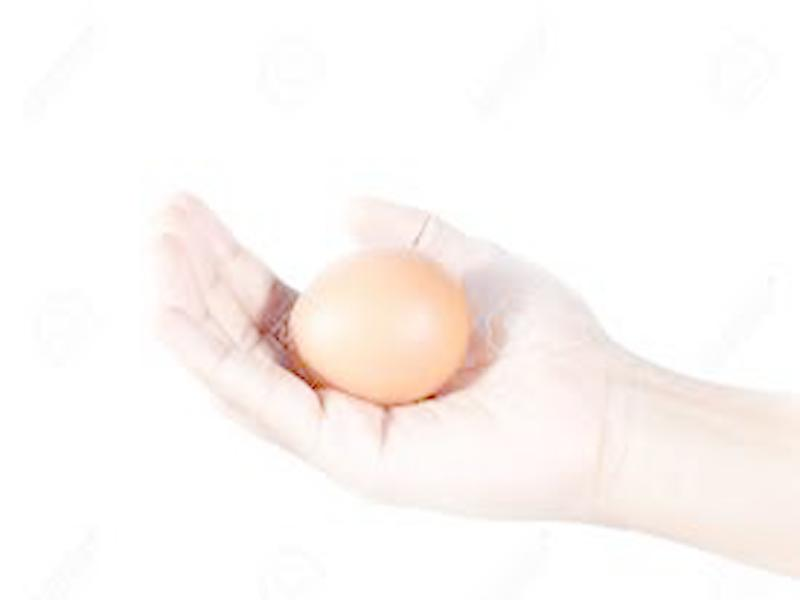Eggs: (291, 249, 468, 400)
